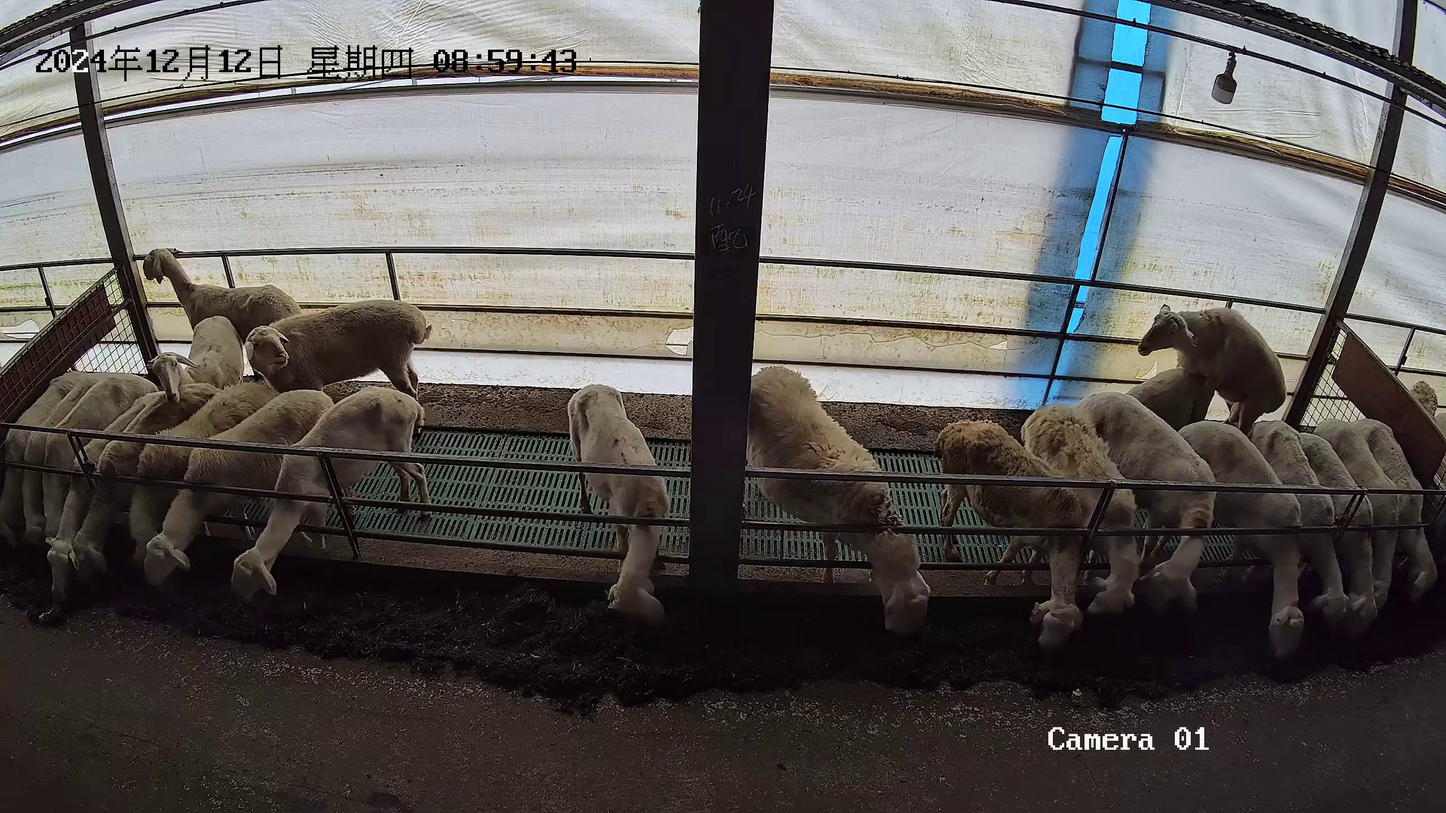Smounting: (1118, 303, 1286, 438)
mounted: (1122, 364, 1213, 434)
